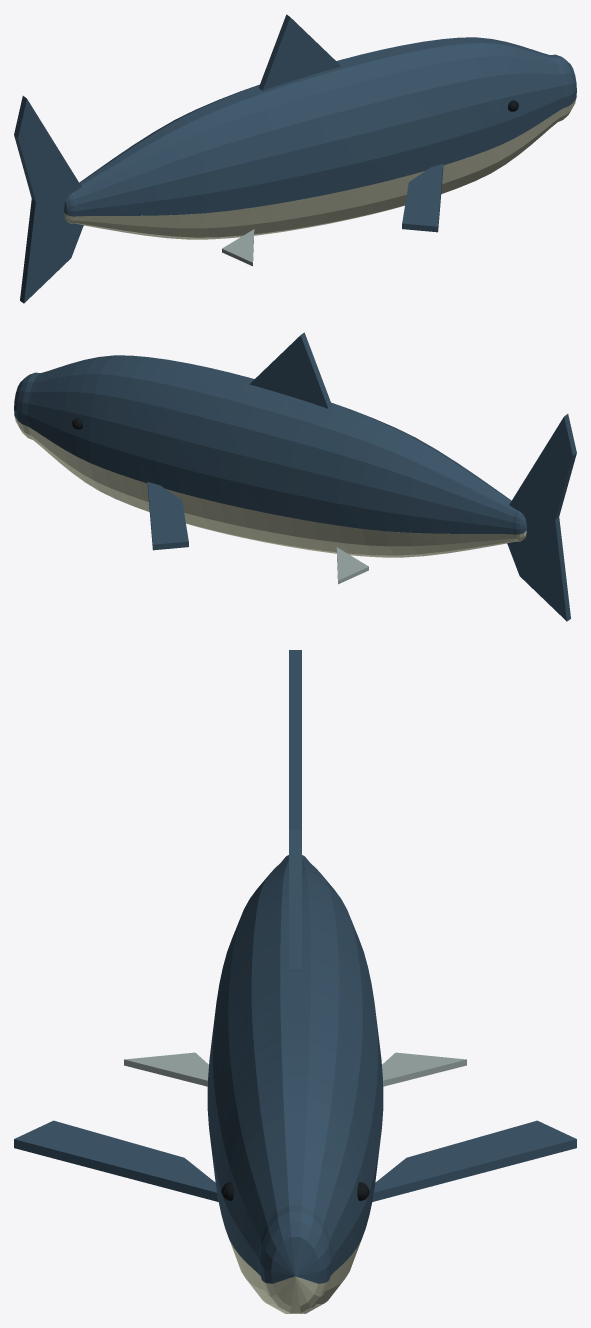
The model's file is bluefin-tuna.dae.
3 renders of one model, top to bottom at view 1: azimuth 30°, elevation 25°; view 2: azimuth 150°, elevation 25°; view 3: azimuth 270°, elevation 25°, orthographic. The views are drawn at different scales.
Visible parts, largest first — view 1: part3-node, part2-node, part0-node; view 2: part3-node, part2-node, part0-node; view 3: part3-node, part0-node, part2-node.
Boxes of the visible parts, <box> form: part3-node: <box>14,14,576,303</box>; part2-node: <box>64,98,576,239</box>; part0-node: <box>222,229,254,266</box>; part3-node: <box>14,332,576,621</box>; part2-node: <box>14,416,526,557</box>; part0-node: <box>336,547,368,584</box>; part3-node: <box>14,650,576,1283</box>; part0-node: <box>124,1052,466,1086</box>; part2-node: <box>229,1240,361,1313</box>.
Size of the model in its own units: 2.1 by 1.14 by 0.795.
